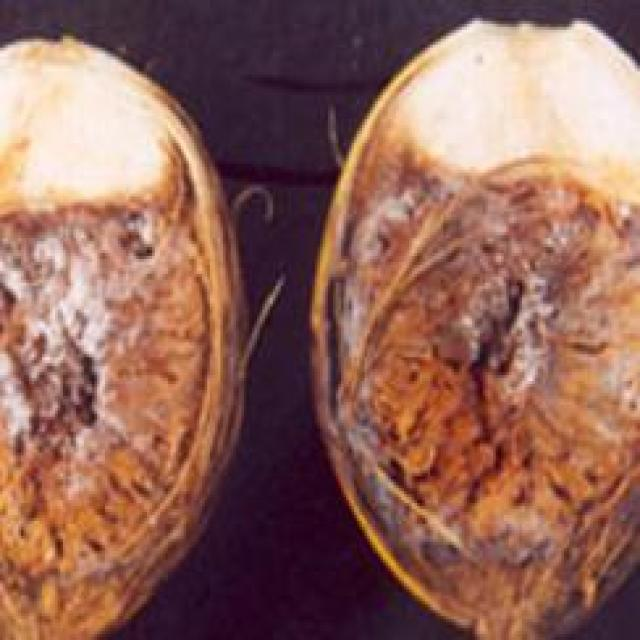damaged: (317, 21, 637, 637), (0, 36, 241, 637)
